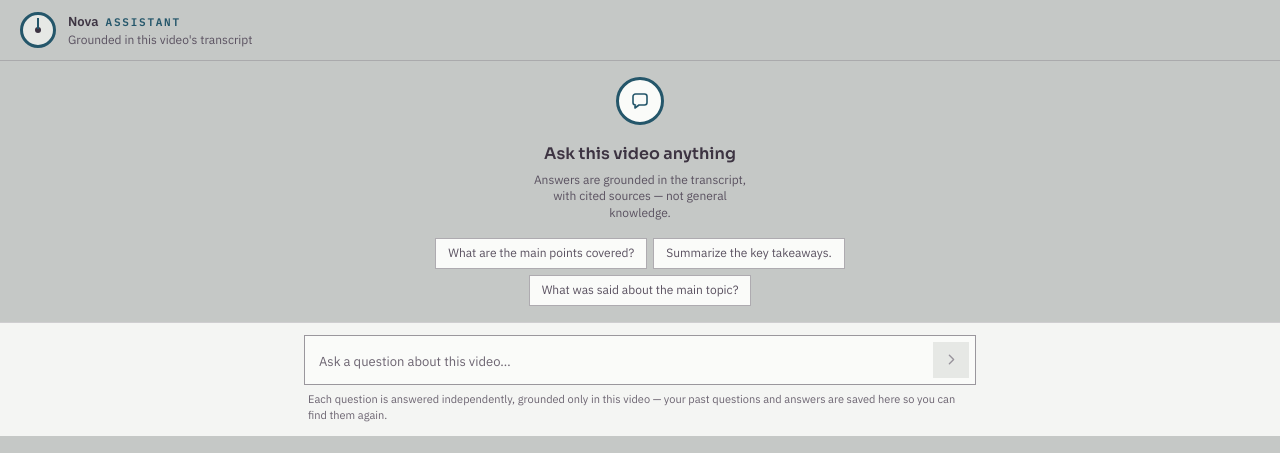
Test case: ChatPanel › disables the send button only while empty or while a request is in flight
The image size is (1280, 453).
Expected: the button named "send message" is disabled, [933,342,969,378]
Type "hello" into the text box with placeholder "Ask a question about this video…" at (618, 362), box [311,346,925,378]
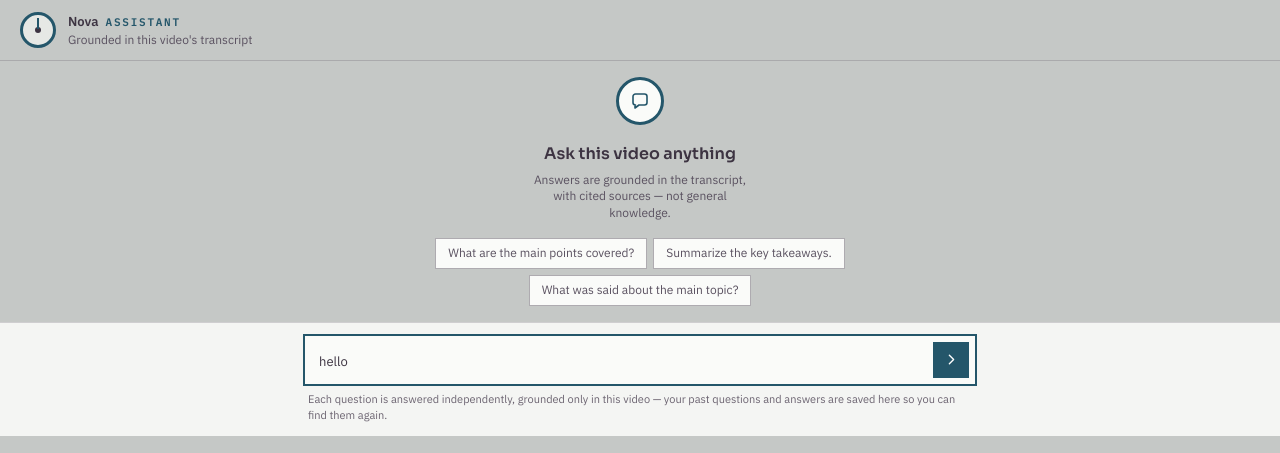
Now the button named "send message" is enabled
Click the button named "send message" at (951, 360), box [933,342,969,378]
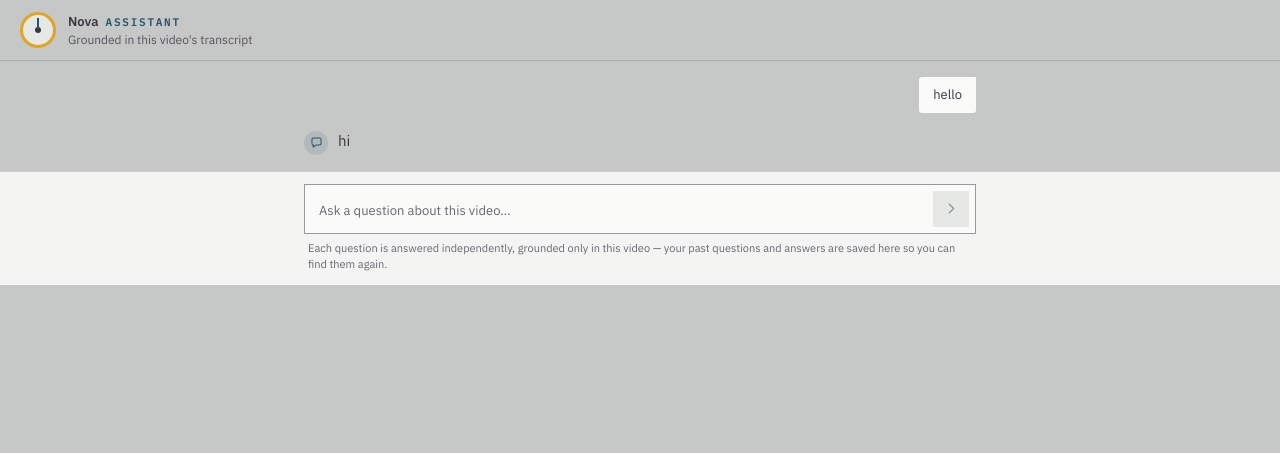
Now the button named "send message" is disabled, box [933,191,969,227]
